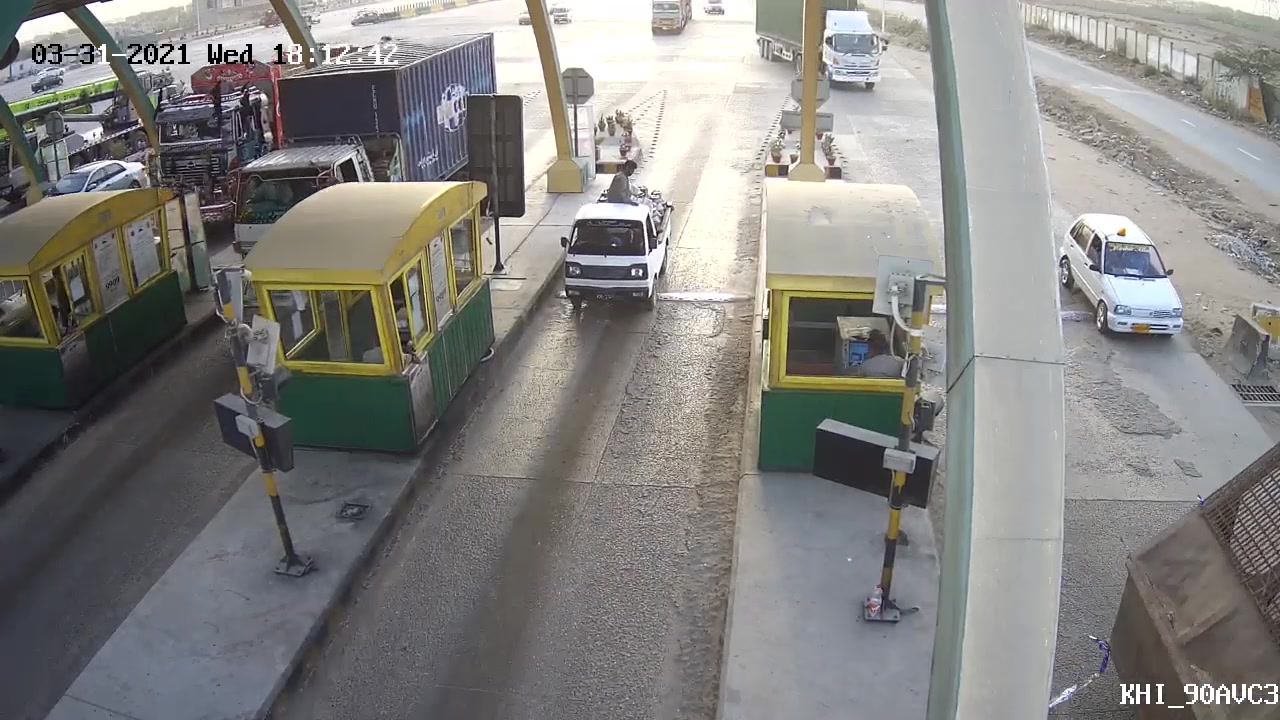F2: (548, 201, 671, 315)
